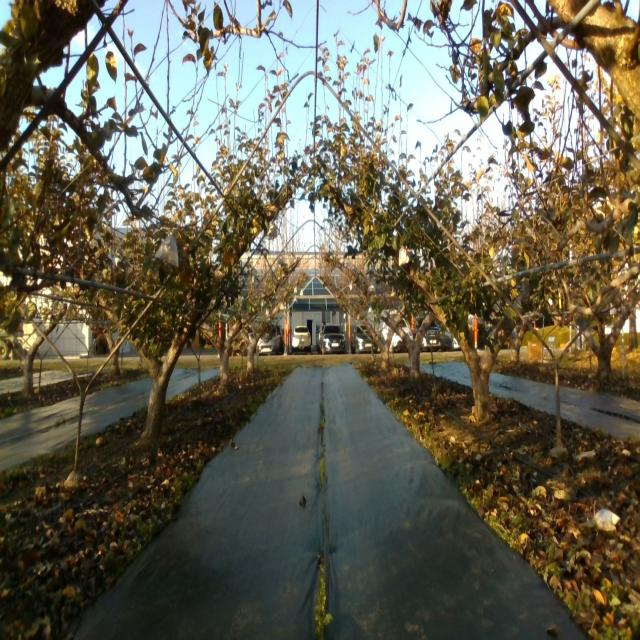pearbags: (154, 234, 179, 268), (398, 247, 409, 266)
